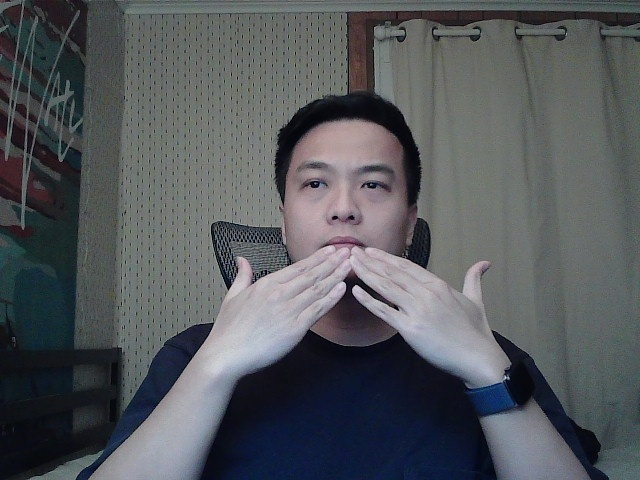Thank You: (213, 234, 510, 389)
